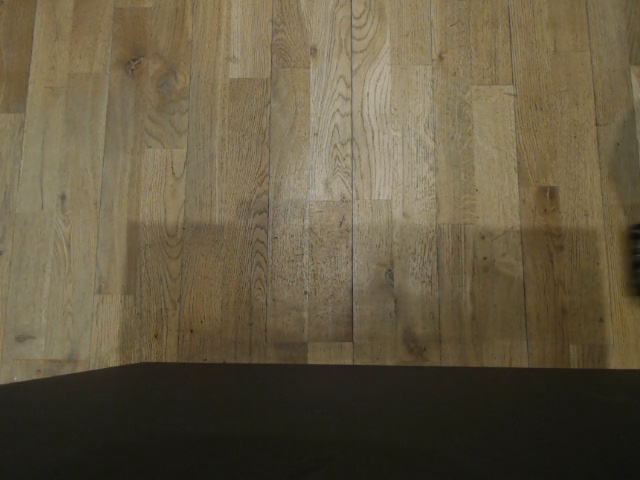beer: (446, 324, 545, 369), (138, 319, 230, 363)
